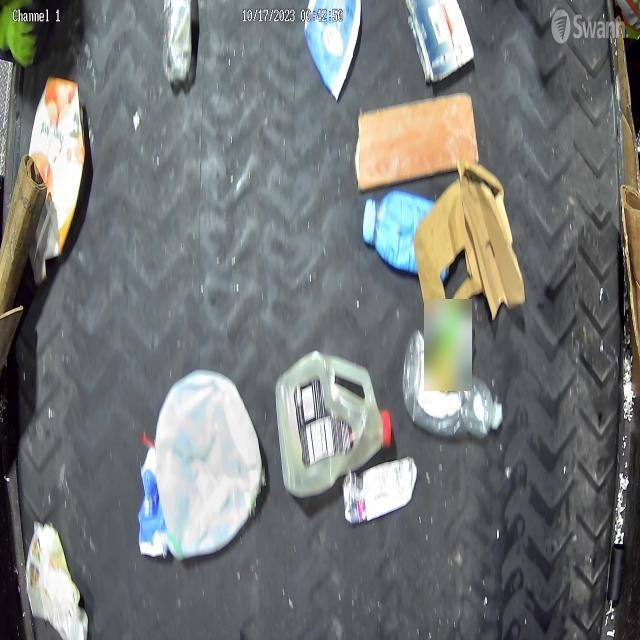milk_jug: (156, 367, 262, 560)
non_white_jug: (276, 352, 390, 496), (28, 75, 86, 286)
plastic_bottle: (402, 330, 502, 440)
